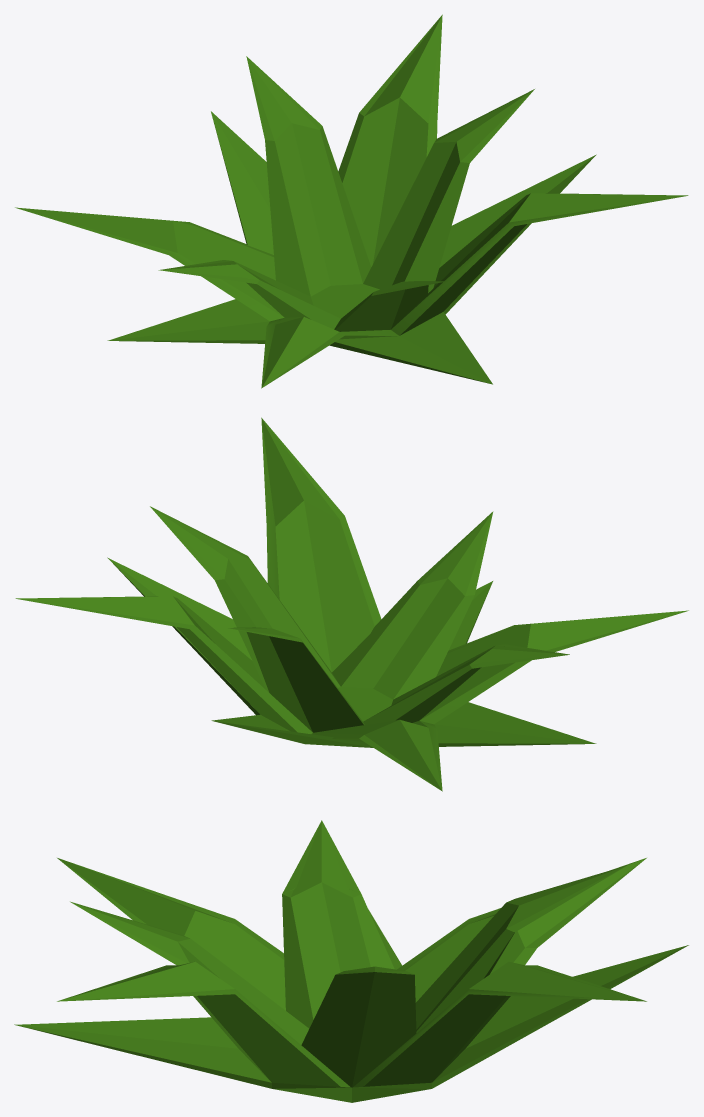
Rendered from Grass03.FBX.
3 views of the same model, one above another, from view 1: azimuth 30°, elevation 25°; view 2: azimuth 150°, elevation 25°; view 3: azimuth 270°, elevation 25° (orthographic). The views are drawn at different scales.
Parts seen in each view (by area): view 1: Cylinder001; view 2: Cylinder001; view 3: Cylinder001.
Boxes of the visible parts, bbox=[...] form: Cylinder001: bbox=[15, 14, 688, 388]; Cylinder001: bbox=[15, 417, 688, 791]; Cylinder001: bbox=[14, 820, 688, 1102].
Size of the model in its own units: 10 by 10 by 3.19.
